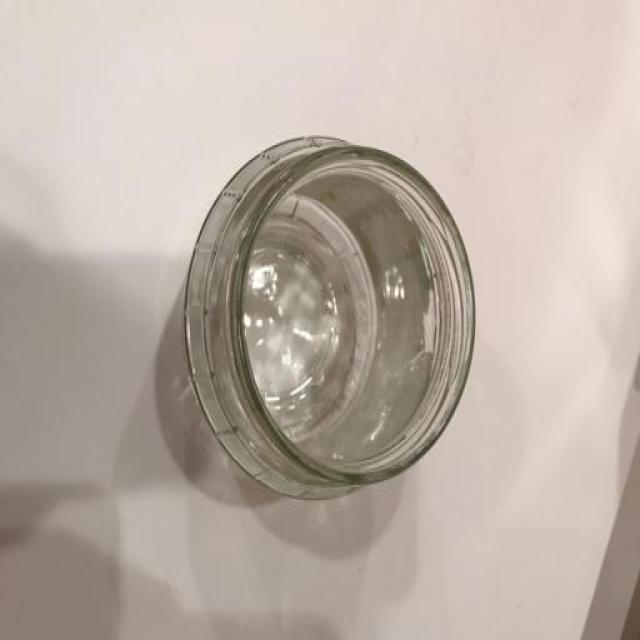glass: (150, 118, 480, 541)
